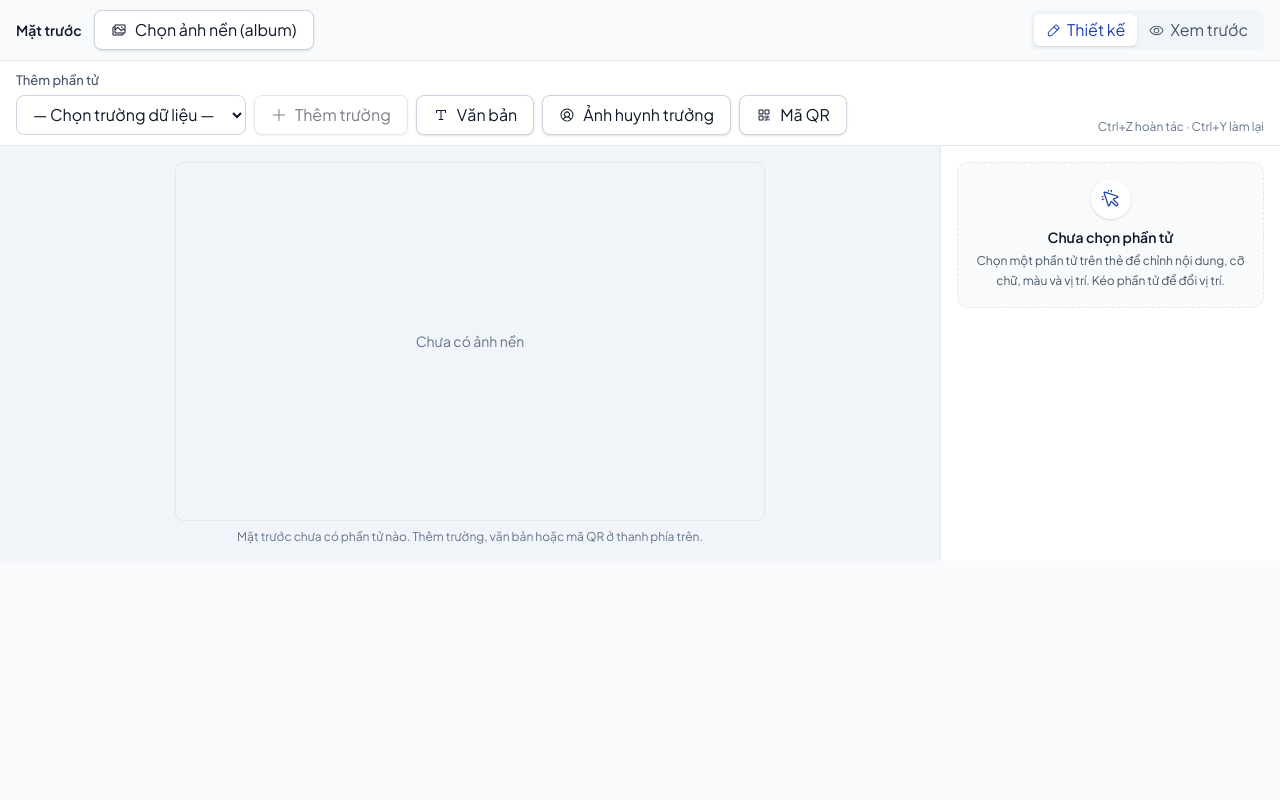
BadgeEditor › uploads a new image into the album
This screenshot has width=1280, height=800.
Click the button "Chọn ảnh nền (album)". click: click(204, 30)
box: [94,10,314,50]
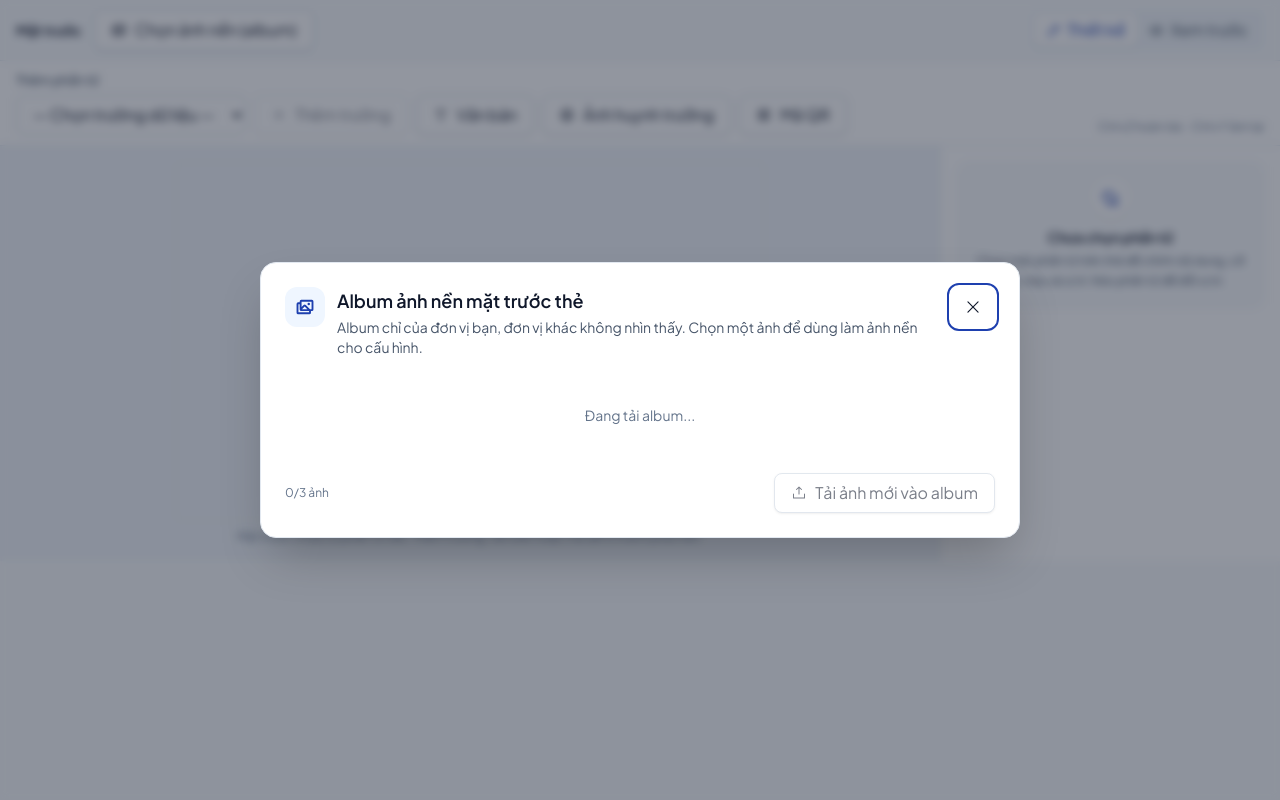
Now the button "Tải ảnh mới vào album" is shown, box [774,473,995,513]
